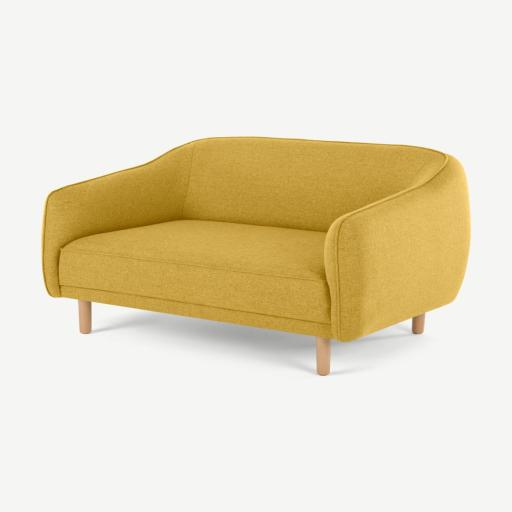back_cushion: (179, 137, 443, 231)
left_arm: (325, 157, 470, 341)
legs: (317, 337, 330, 375), (78, 300, 91, 334), (413, 315, 424, 334)
one-seater: (0, 0, 511, 512)
right_arm: (42, 141, 196, 297)
seat_cushion: (57, 221, 330, 330)
